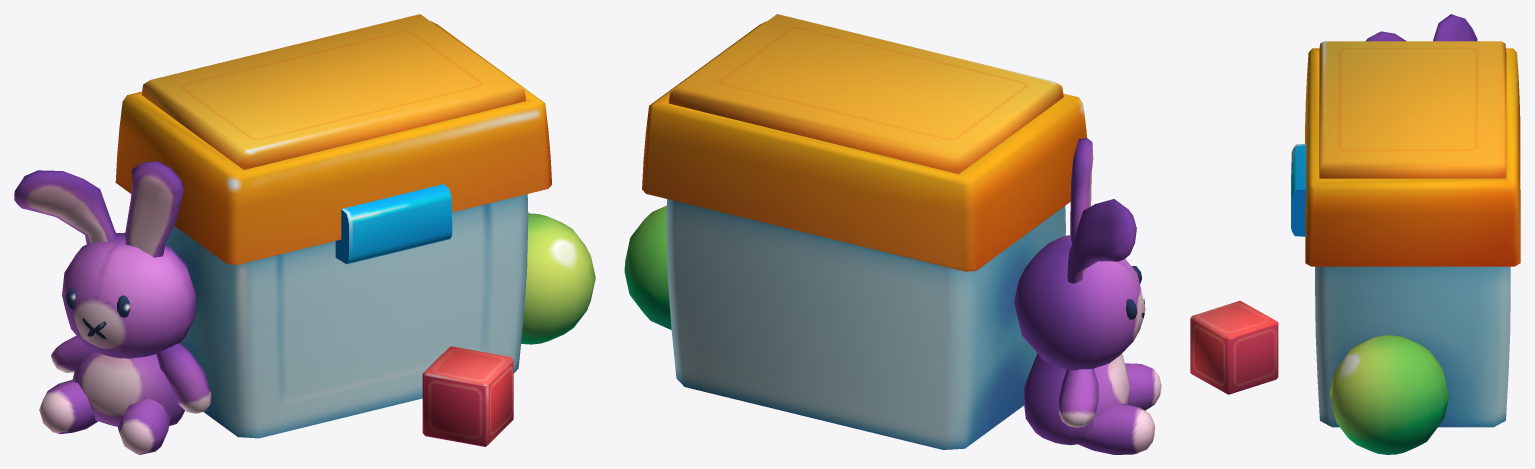
Rendered from model_btn_mini_game_toy_clear.fbx.
The picture shows the model from 3 angles, left to right: view 1: azimuth 30°, elevation 25°; view 2: azimuth 150°, elevation 25°; view 3: azimuth 270°, elevation 25°; orthographic projection. The views are drawn at different scales.
Visible parts, largest first — view 1: model_btn_mini_game_toy_clear; view 2: model_btn_mini_game_toy_clear; view 3: model_btn_mini_game_toy_clear.
Part boxes in pixels (x1,y1,x2,y2): model_btn_mini_game_toy_clear: (14, 14, 595, 454); model_btn_mini_game_toy_clear: (624, 14, 1161, 454); model_btn_mini_game_toy_clear: (1190, 14, 1520, 454).
Size of the model in its own units: 105 by 55.31 by 61.98.
